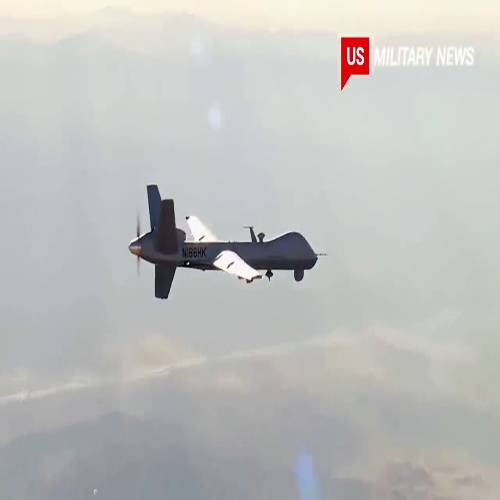uav689: (125, 182, 329, 301)
